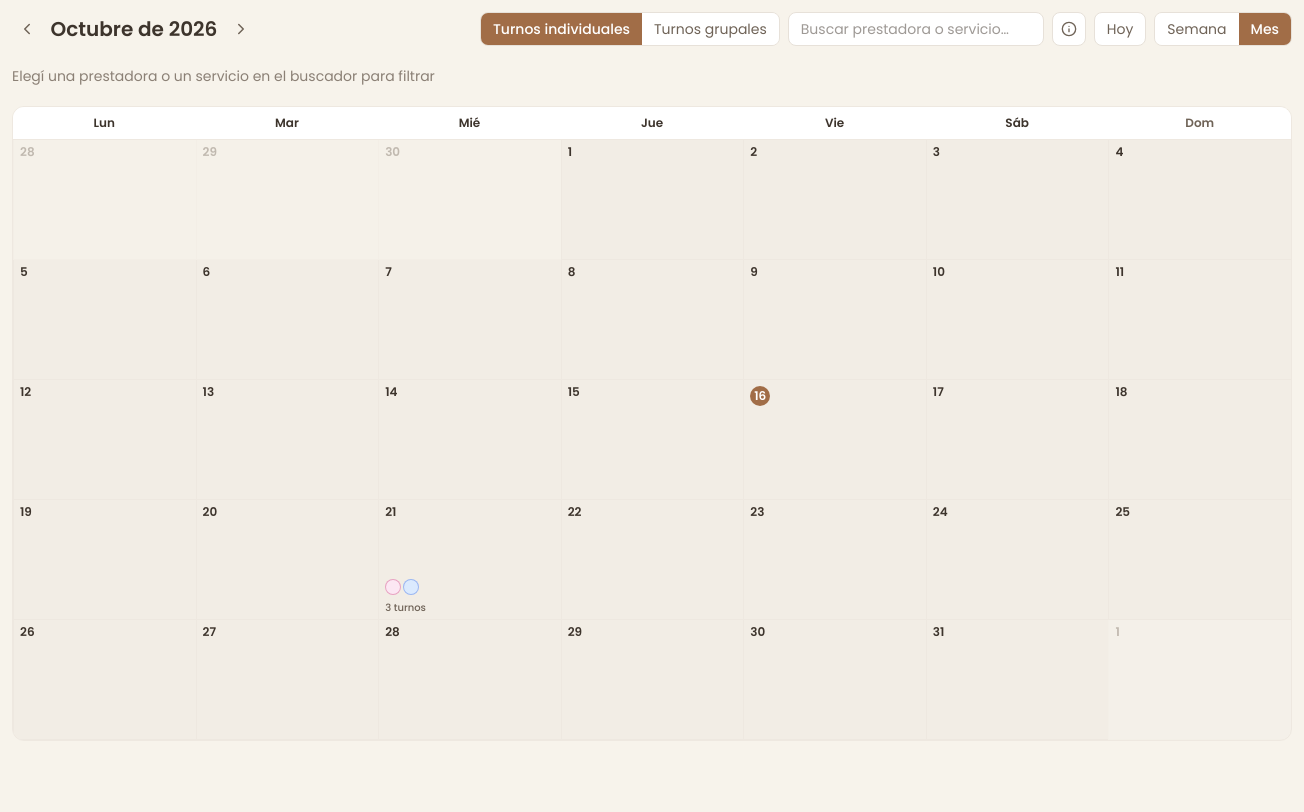
Scenario: MonthViewPage — filtros múltiples › la ficha de una prestadora no trae los turnos de otra
This screenshot has width=1304, height=812.
Step 1. Hover over the element with test id "punto-2026-10-21-p2" → (411, 587), box top-left (403, 579), bottom-right (419, 595)
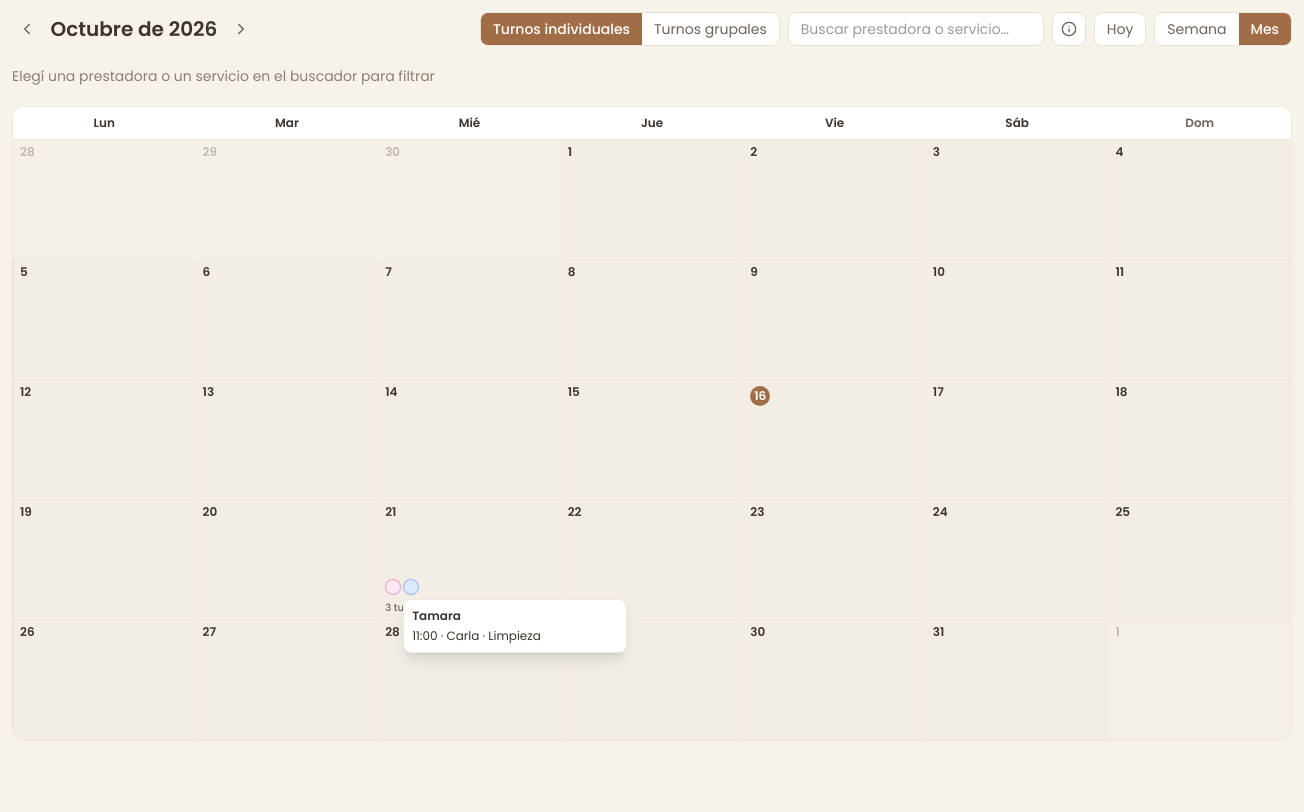
Expected: the elements with test id "linea-de-turno" read "11:00 · Carla · Limpieza", in this order, top-left (412, 627), bottom-right (541, 644)
